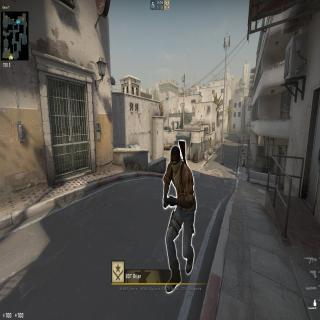T-Head: (169, 144, 182, 173)
